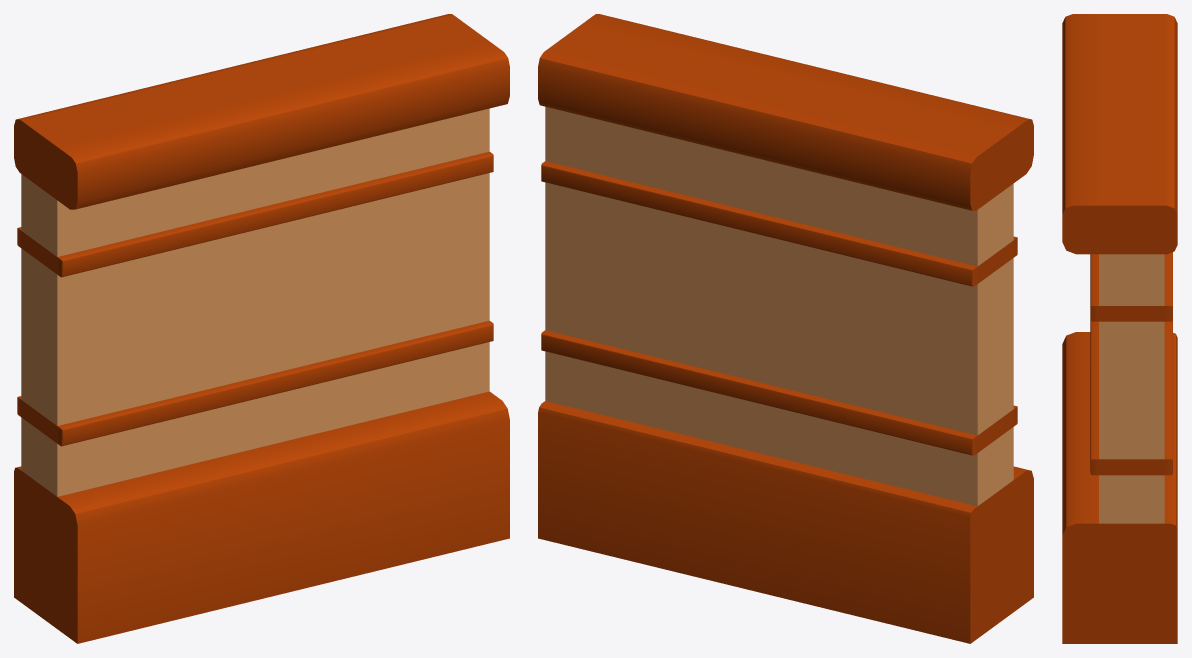
File: New_Walls002.fbx
The picture shows the model from 3 angles, left to right: view 1: azimuth 30°, elevation 25°; view 2: azimuth 150°, elevation 25°; view 3: azimuth 270°, elevation 25°; orthographic projection. The views are drawn at different scales.
Visible parts, largest first — view 1: Wall005.009; view 2: Wall005.009; view 3: Wall005.009.
Boxes of the visible parts, x1,y1,x2,y2 form: Wall005.009: (14, 14, 509, 643); Wall005.009: (538, 14, 1033, 643); Wall005.009: (1062, 14, 1177, 643).
Bounding box in the file's own units: 250 × 266 × 63.58.
Materials: 1 (1 with a texture image).
